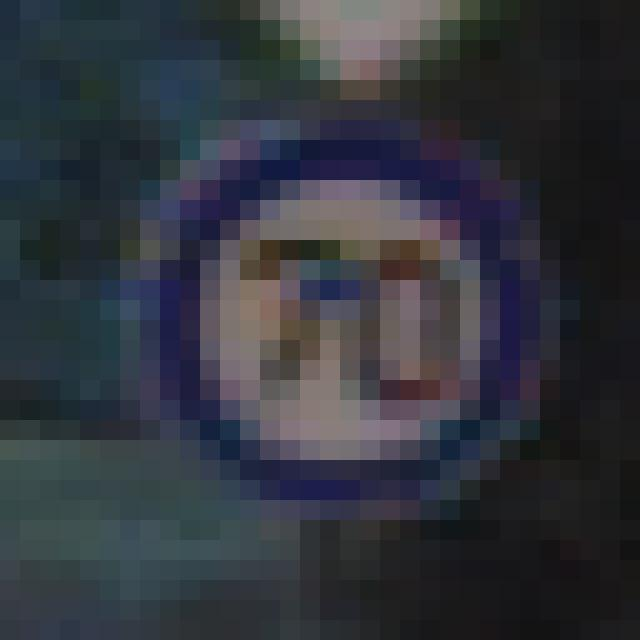SPEED LIMIT 70: (152, 143, 568, 519)
